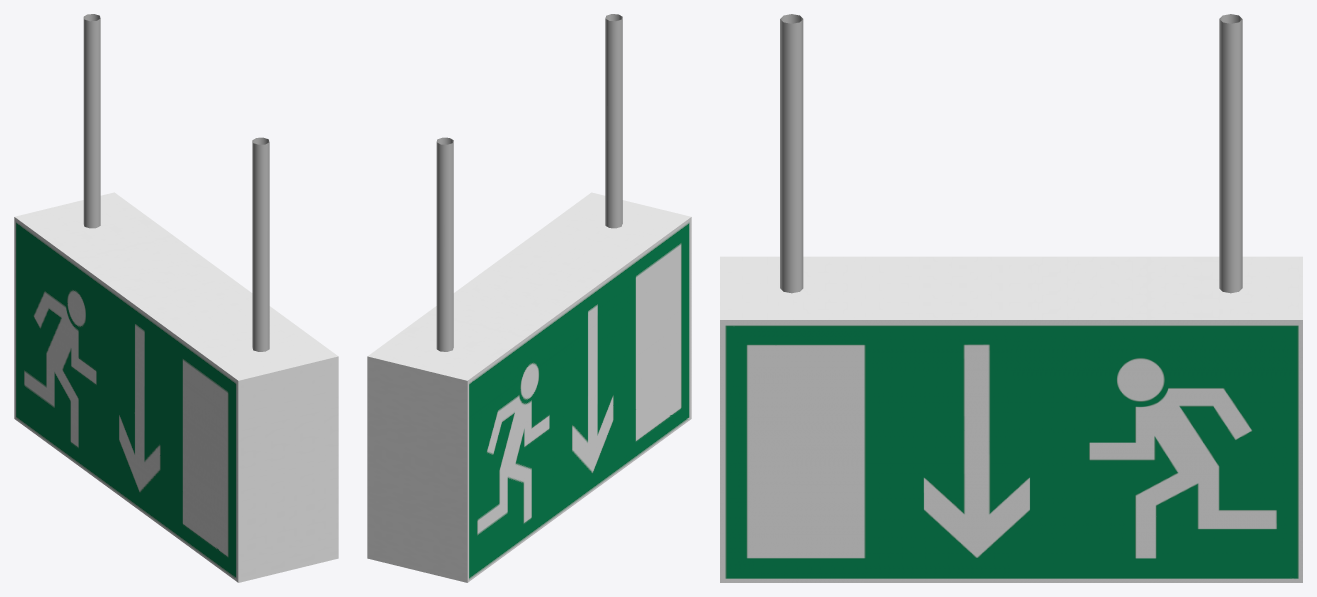
Rendered from exit_sign.fbx.
3 renders of one model, left to right at view 1: azimuth 30°, elevation 25°; view 2: azimuth 150°, elevation 25°; view 3: azimuth 270°, elevation 25°, orthographic. The views are drawn at different scales.
Parts seen in each view (by area): view 1: Exit; view 2: Exit; view 3: Exit.
Boxes of the visible parts, x1=… form: Exit: x1=14, y1=14, x2=338, y2=582; Exit: x1=367, y1=14, x2=691, y2=582; Exit: x1=720, y1=14, x2=1302, y2=582.
Size of the model in its own units: 5.46 by 21.33 by 21.16.
